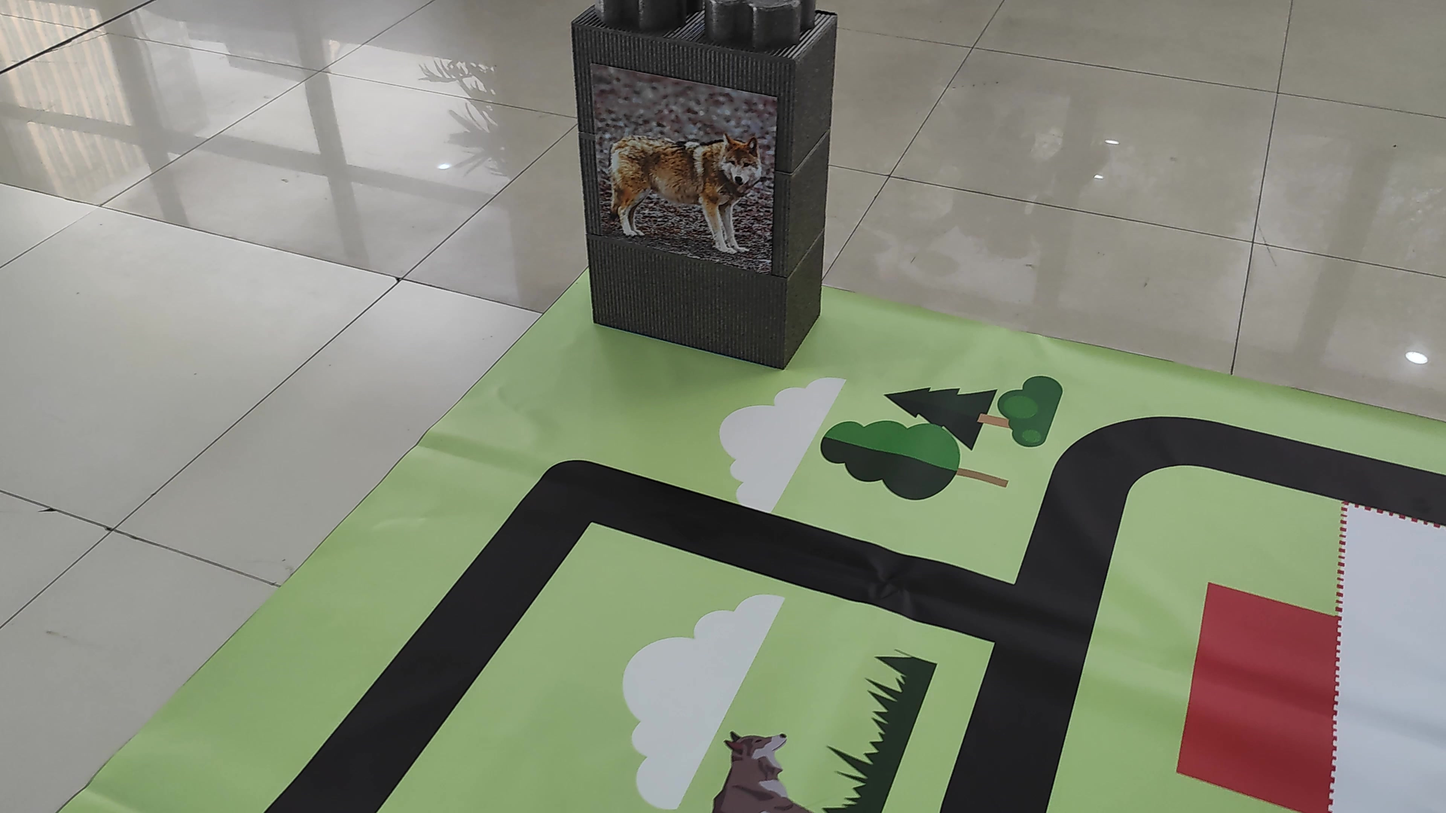wolf: (594, 100, 764, 254)
